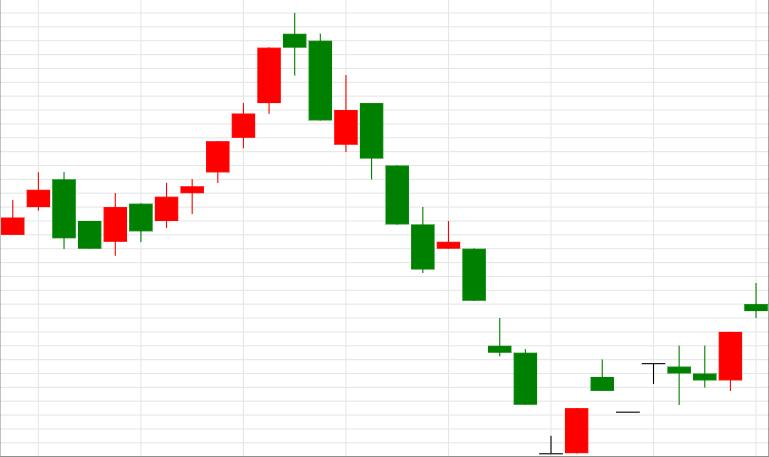evening_star_fall: (156, 14, 331, 229)
